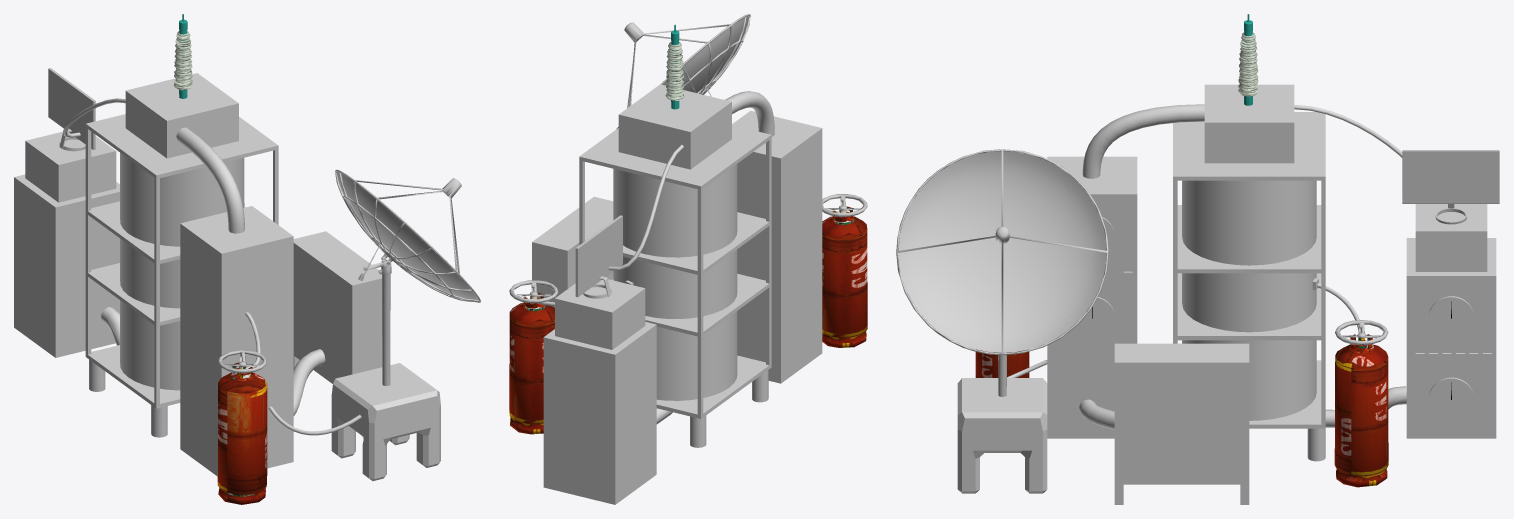
Rendered from machine.fbx.
The picture shows the model from 3 angles, left to right: view 1: azimuth 30°, elevation 25°; view 2: azimuth 150°, elevation 25°; view 3: azimuth 270°, elevation 25°; orthographic projection. The views are drawn at different scales.
Visible parts, largest first — view 1: Body.003, Body, Cylinder, CubeLeg.002, Body.005, Body.002, Gastank, Body.001, Panel.003, Antenna_Mesh, Antenna_Dishframe, Monitor_Main (+11 smaller); view 2: Cylinder, Body.003, Body, Body.002, Gastank, Body.001, Gastank.001, Panel.003, CubeLeg.002, Monitor_Main, Panel.002, Antenna_Dishframe (+13 smaller); view 3: Antenna_Mesh, Cylinder, Body.003, Filter, Body, Body.005, CubeLeg.002, Gastank.001, Body.002, Panel.003, Monitor_Main, Body.001 (+14 smaller).
Boxes of the visible parts, x1,y1,x2,y2 form: Body.003: (180, 206, 293, 476); Body: (14, 174, 119, 357); Cylinder: (120, 153, 244, 390); CubeLeg.002: (293, 231, 382, 383); Body.005: (331, 363, 440, 481); Body.002: (125, 73, 238, 158); Gastank: (217, 362, 267, 504); Body.001: (25, 131, 116, 202); Panel.003: (85, 114, 278, 178); Antenna_Mesh: (337, 172, 477, 299); Antenna_Dishframe: (335, 169, 480, 302); Monitor_Main: (48, 68, 95, 149); Cylinder: (613, 164, 737, 400); Body.003: (732, 110, 822, 383); Body: (543, 322, 656, 504); Body.002: (618, 84, 731, 169); Gastank: (822, 206, 867, 347); Body.001: (555, 279, 645, 349); Gastank.001: (509, 293, 554, 434); Panel.003: (579, 125, 771, 189); CubeLeg.002: (532, 196, 613, 307); Monitor_Main: (575, 215, 622, 297); Panel.002: (585, 212, 769, 274); Antenna_Dishframe: (616, 14, 750, 129); Antenna_Mesh: (898, 151, 1106, 352); Cylinder: (1182, 180, 1316, 420); Body.003: (1047, 156, 1137, 438); Filter: (1123, 370, 1240, 476); Body: (1406, 238, 1496, 438); Body.005: (957, 378, 1047, 493); CubeLeg.002: (1114, 343, 1249, 504); Gastank.001: (1334, 334, 1388, 487); Body.002: (1204, 84, 1294, 163); Panel.003: (1173, 112, 1325, 180); Monitor_Main: (1402, 150, 1499, 203); Body.001: (1415, 204, 1487, 271).
Size of the model in its own units: 670 by 1020 by 1344.
